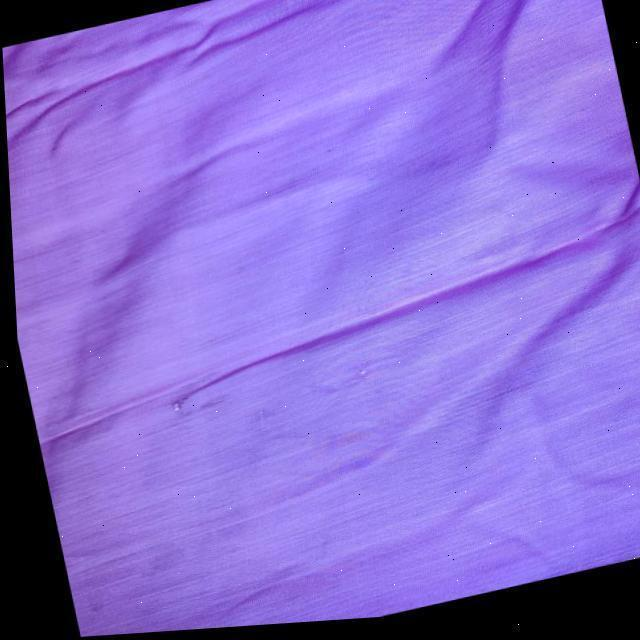broken_yarn: (42, 216, 638, 450)
